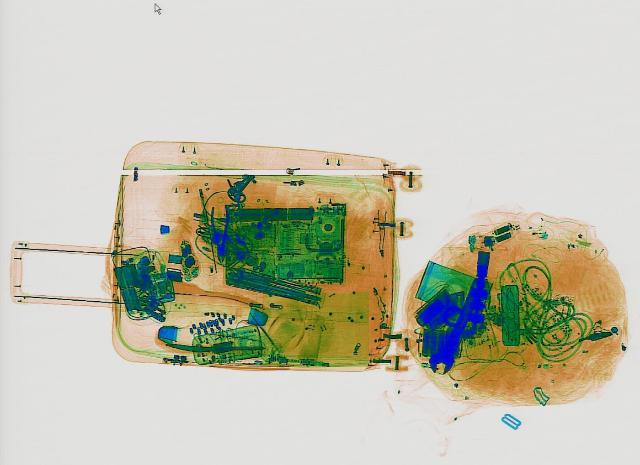Pliers: (210, 206, 228, 263)
Wrench: (422, 274, 492, 374)
